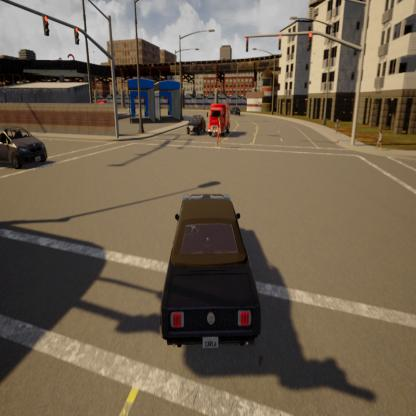Cars: (159, 172, 268, 364), (0, 121, 56, 172), (209, 101, 232, 137), (185, 113, 208, 137), (231, 102, 242, 119)
Pedestrian: (215, 117, 224, 149)
